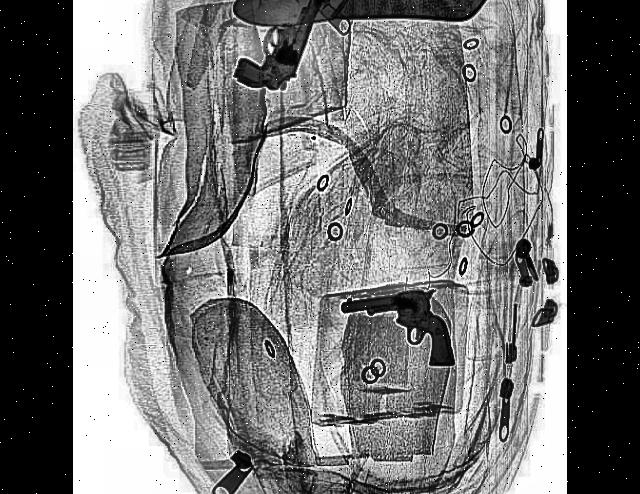Gun: (339, 282, 453, 378), (230, 0, 325, 114)
Knife: (231, 0, 512, 33)
